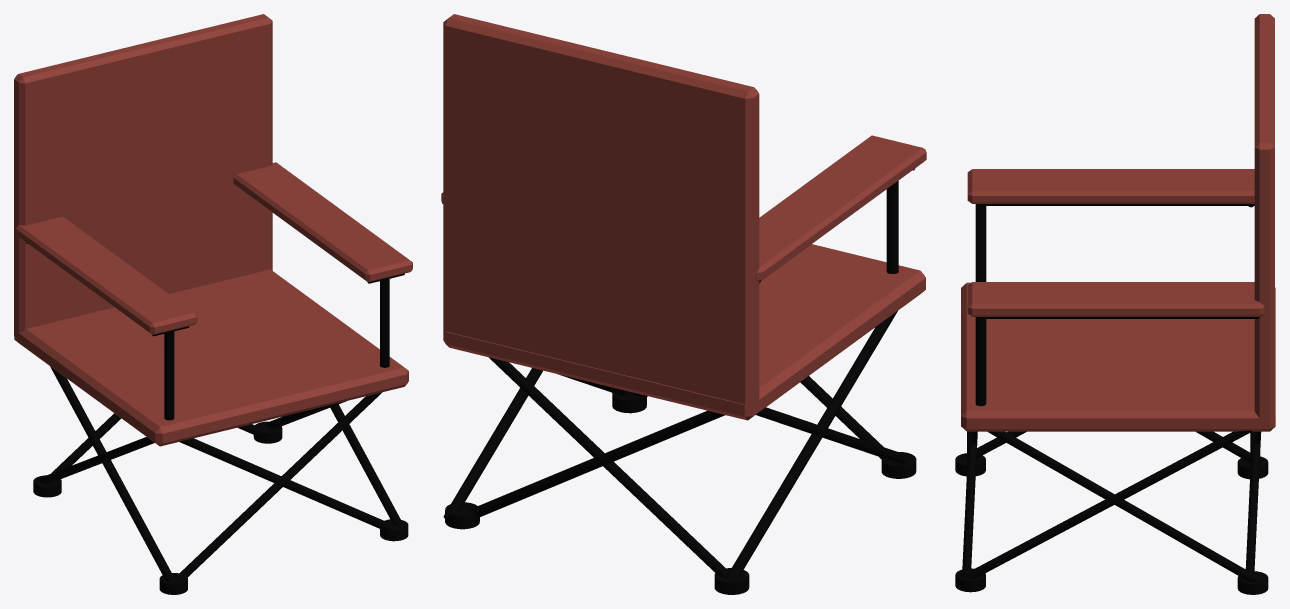
The model's file is Final_CampingChair.fbx.
3 renders of one model, left to right at view 1: azimuth 30°, elevation 25°; view 2: azimuth 150°, elevation 25°; view 3: azimuth 270°, elevation 25°, orthographic. The views are drawn at different scales.
Visible parts, largest first — view 1: polySurface62, polySurface52; view 2: polySurface62, polySurface52; view 3: polySurface62, polySurface52.
Boxes of the visible parts, bbox=[...] form: polySurface62: bbox=[14, 14, 412, 446]; polySurface52: bbox=[25, 242, 408, 594]; polySurface62: bbox=[441, 14, 926, 420]; polySurface52: bbox=[443, 168, 916, 594]; polySurface62: bbox=[961, 14, 1275, 431]; polySurface52: bbox=[955, 204, 1268, 594].
Size of the model in its own units: 11.39 by 17.26 by 11.18.
